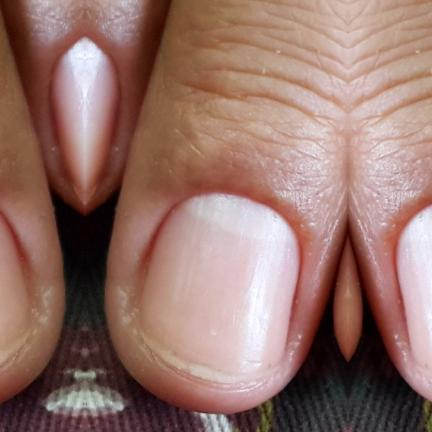Nail: (139, 192, 299, 382), (396, 204, 432, 376), (84, 38, 119, 207), (49, 38, 84, 207), (0, 214, 29, 364)
